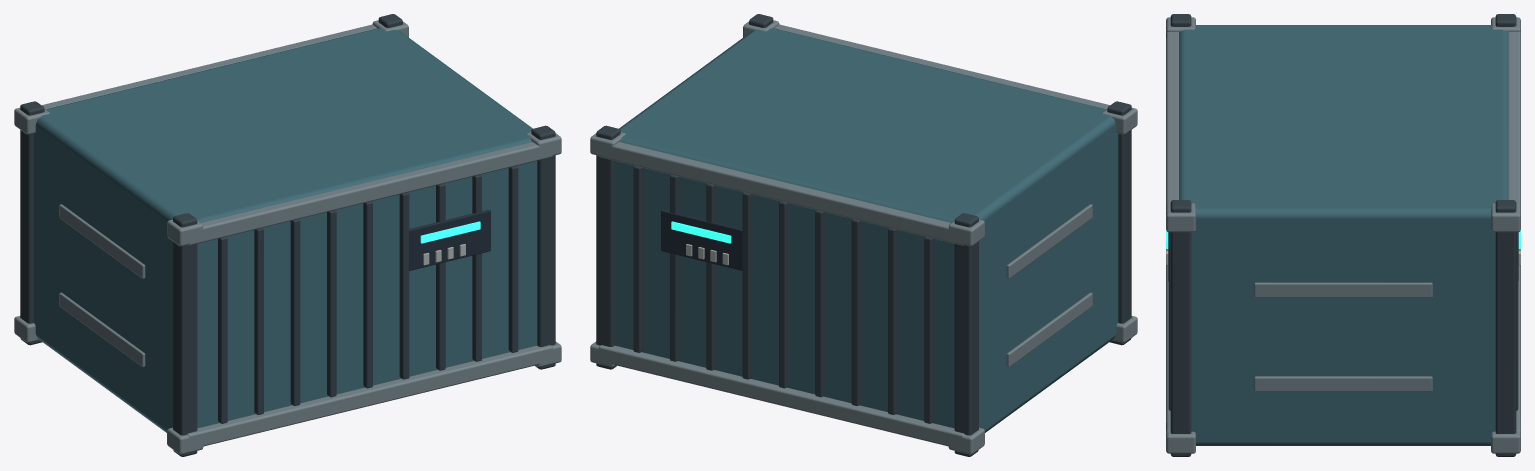
File: cargo-container.glb
3 views of the same model, side by side, from view 1: azimuth 30°, elevation 25°; view 2: azimuth 150°, elevation 25°; view 3: azimuth 270°, elevation 25° (orthographic). The views are drawn at different scales.
Visible parts, largest first — view 1: Modular cargo container / Port teal paint, Modular cargo container / Gunmetal, Modular cargo container / Brushed titanium, Modular cargo container / Graphite polymer; view 2: Modular cargo container / Port teal paint, Modular cargo container / Gunmetal, Modular cargo container / Brushed titanium, Modular cargo container / Graphite polymer; view 3: Modular cargo container / Port teal paint, Modular cargo container / Brushed titanium, Modular cargo container / Gunmetal.
Boxes of the visible parts, x1,y1,x2,y2 form: Modular cargo container / Port teal paint: (33, 28, 537, 432); Modular cargo container / Gunmetal: (20, 14, 555, 456); Modular cargo container / Brushed titanium: (14, 20, 561, 454); Modular cargo container / Graphite polymer: (409, 209, 490, 270); Modular cargo container / Port teal paint: (614, 28, 1118, 432); Modular cargo container / Gunmetal: (596, 14, 1131, 456); Modular cargo container / Brushed titanium: (590, 20, 1137, 454); Modular cargo container / Graphite polymer: (661, 209, 742, 270); Modular cargo container / Port teal paint: (1179, 25, 1507, 445); Modular cargo container / Brushed titanium: (1166, 17, 1520, 453); Modular cargo container / Gunmetal: (1168, 14, 1518, 456).
Size of the model in its own units: 4.08 by 2.4 by 3.08.
